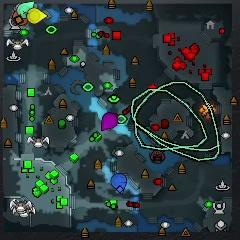p1: (111, 173, 127, 193)
p2: (17, 2, 35, 18)
p3: (101, 113, 118, 131)
p4: (27, 8, 47, 23)
p5: (12, 11, 28, 25)
